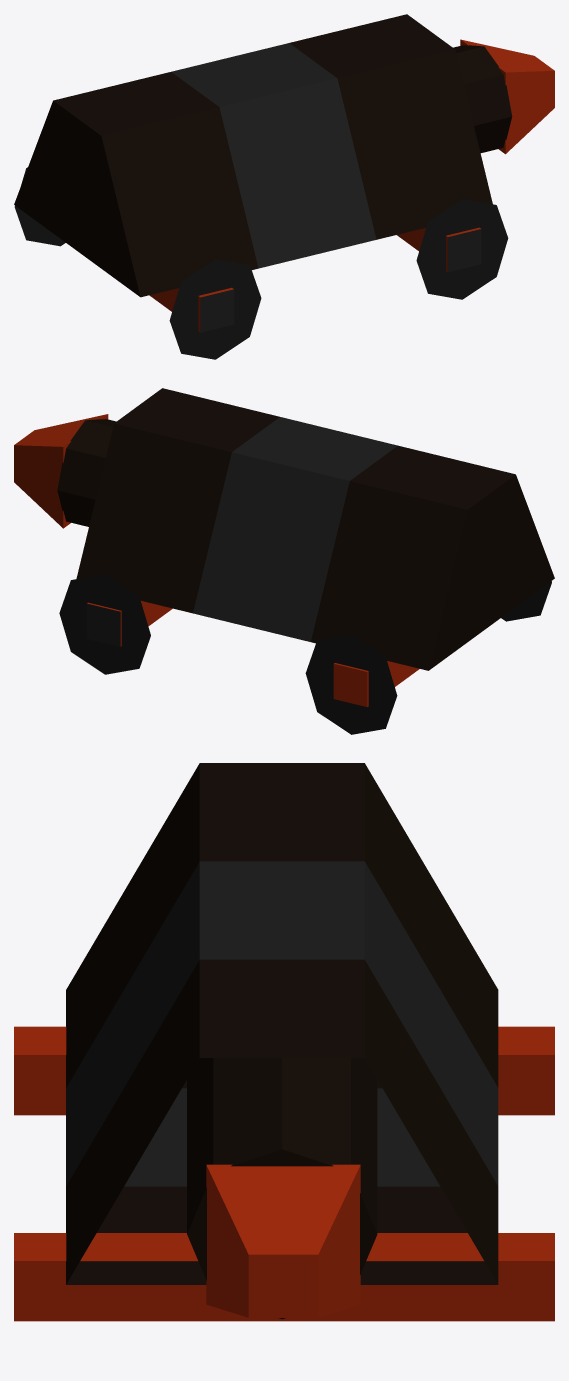
The model's file is heavybatteringram1d.obj.
3 renders of one model, top to bottom at view 1: azimuth 30°, elevation 25°; view 2: azimuth 150°, elevation 25°; view 3: azimuth 270°, elevation 25°, orthographic. The views are drawn at different scales.
Visible parts, largest first — view 1: Cube, Plane.003, Plane.002, Cube.003, Cube.002, Cube.001, Plane.001; view 2: Cube, Plane.001, Plane, Cube.003, Cube.002, Cube.001, Plane.002; view 3: Cube, Cube.001, Cube.003, Cube.002.
Part boxes in pixels (left/top/right/bottom): Cube: left=14, top=14, right=512, bottom=297; Plane.003: left=416, top=199, right=508, bottom=299; Plane.002: left=169, top=259, right=261, bottom=359; Cube.003: left=460, top=39, right=554, bottom=154; Cube.002: left=149, top=287, right=234, bottom=332; Cube.001: left=397, top=227, right=481, bottom=272; Plane.001: left=14, top=167, right=65, bottom=246; Cube: left=57, top=388, right=554, bottom=670; Plane.001: left=305, top=634, right=397, bottom=734; Plane: left=59, top=574, right=150, bottom=674; Cube.003: left=14, top=414, right=108, bottom=528; Cube.002: left=333, top=661, right=419, bottom=707; Cube.001: left=86, top=601, right=172, bottom=646; Plane.002: left=501, top=581, right=551, bottom=621; Cube: left=66, top=763, right=498, bottom=1319; Cube.001: left=14, top=1233, right=554, bottom=1321; Cube.003: left=206, top=1164, right=360, bottom=1317; Cube.002: left=14, top=1026, right=554, bottom=1115.
Size of the model in its own units: 10.17 by 4.17 by 5.96.
